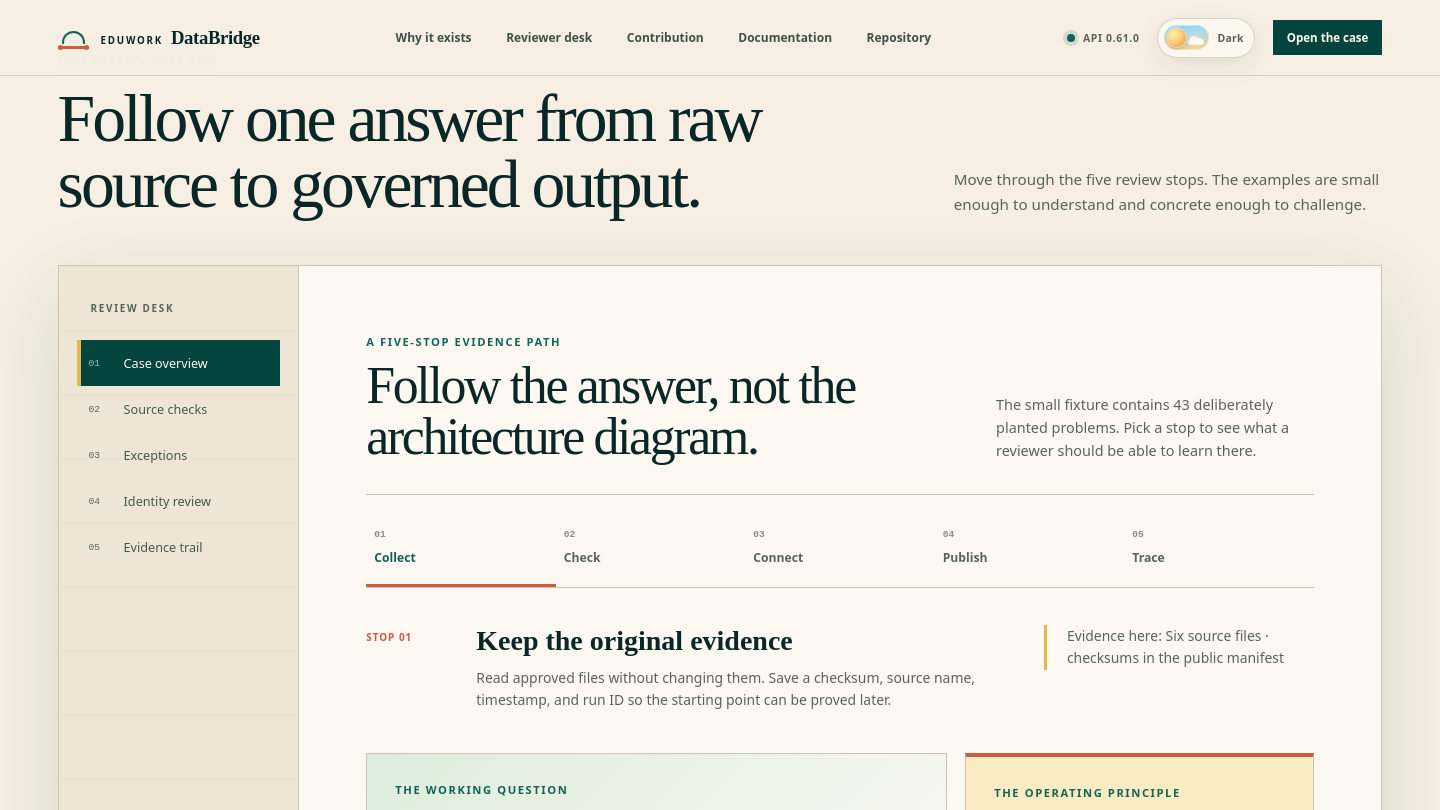
Test case: opens the connected exception desk when the API is available
(page scrolled)
Expected: the text "API 0.61.0" is shown, [1067,30,1140,44]
Click the button "03 Exceptions": (178, 455) [77,432,280,478]
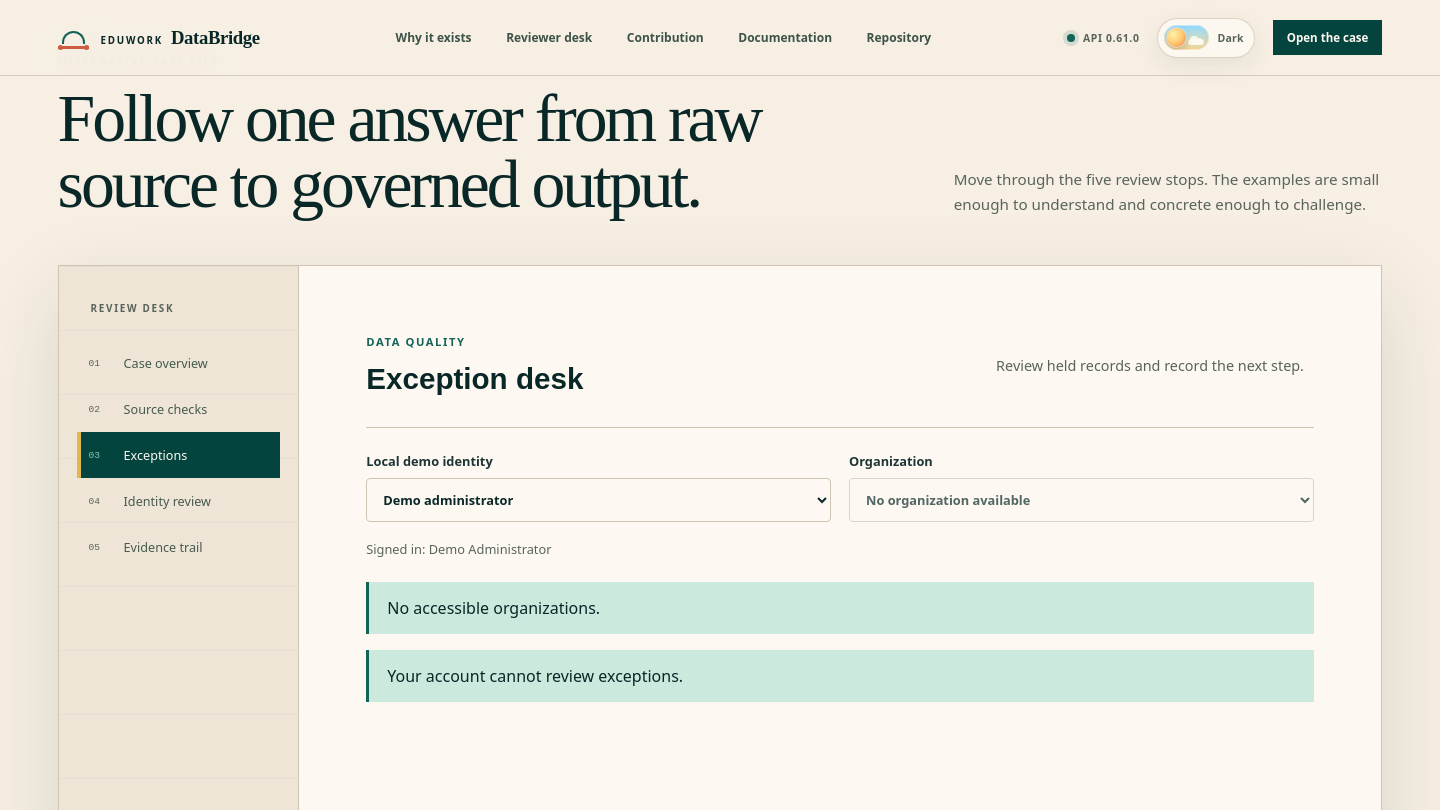
Result: the heading "Exception desk" is shown at [366,362,583,395]
